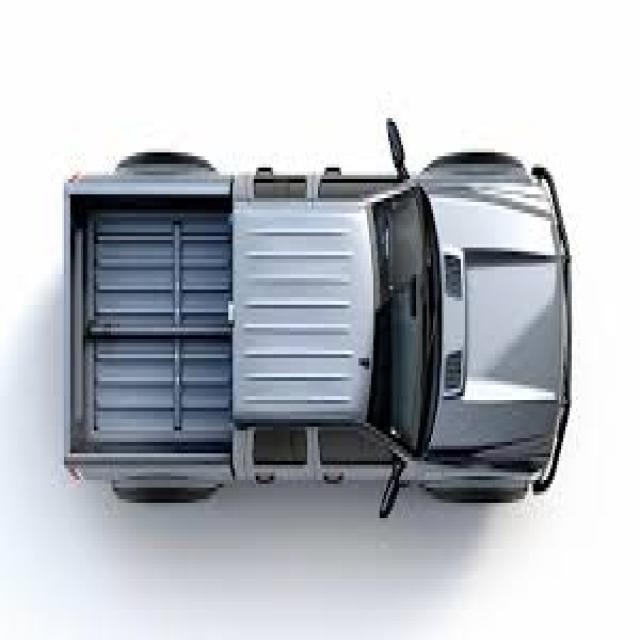truck: (59, 150, 571, 499)
